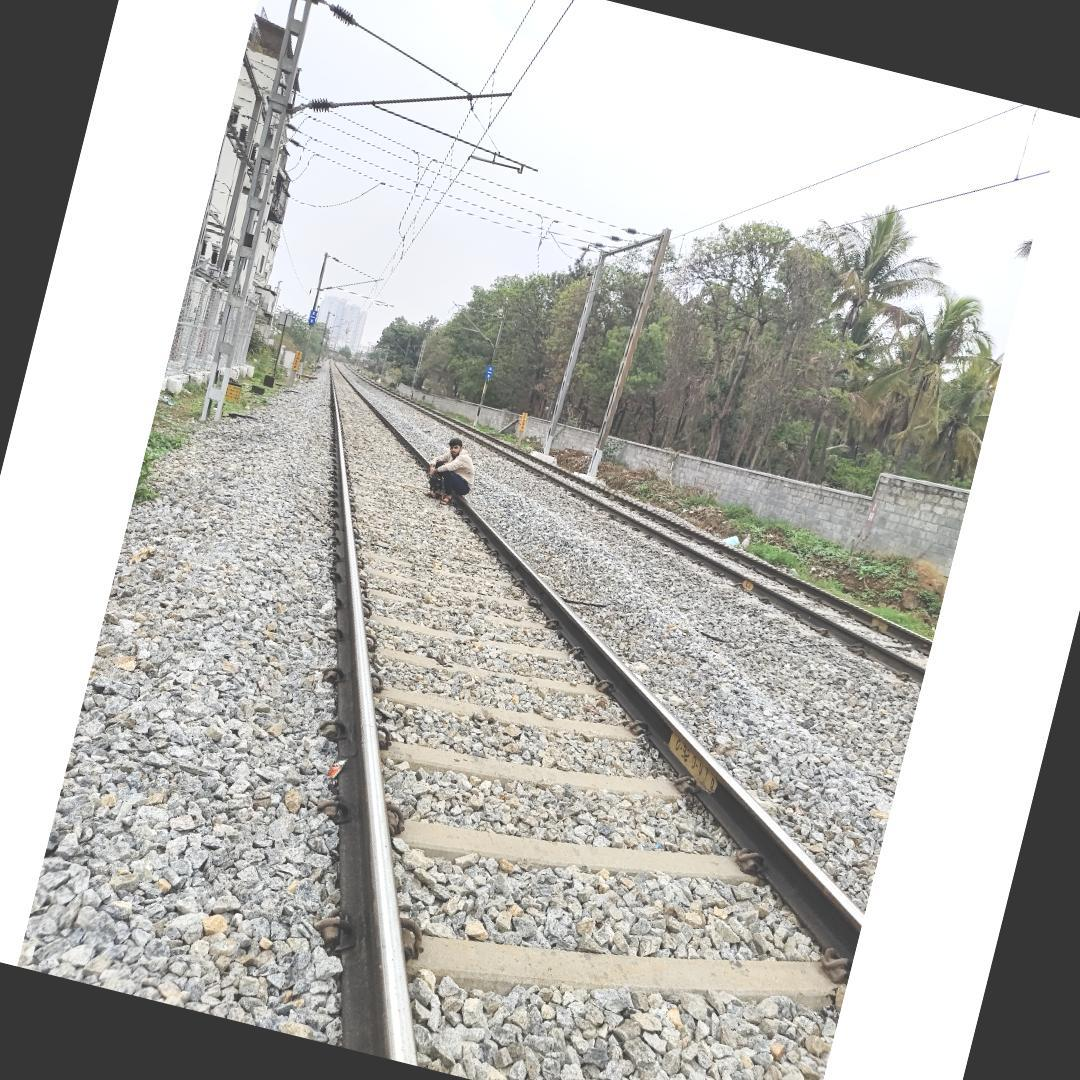sitting: (419, 431, 484, 508)
track: (270, 344, 882, 1080)
